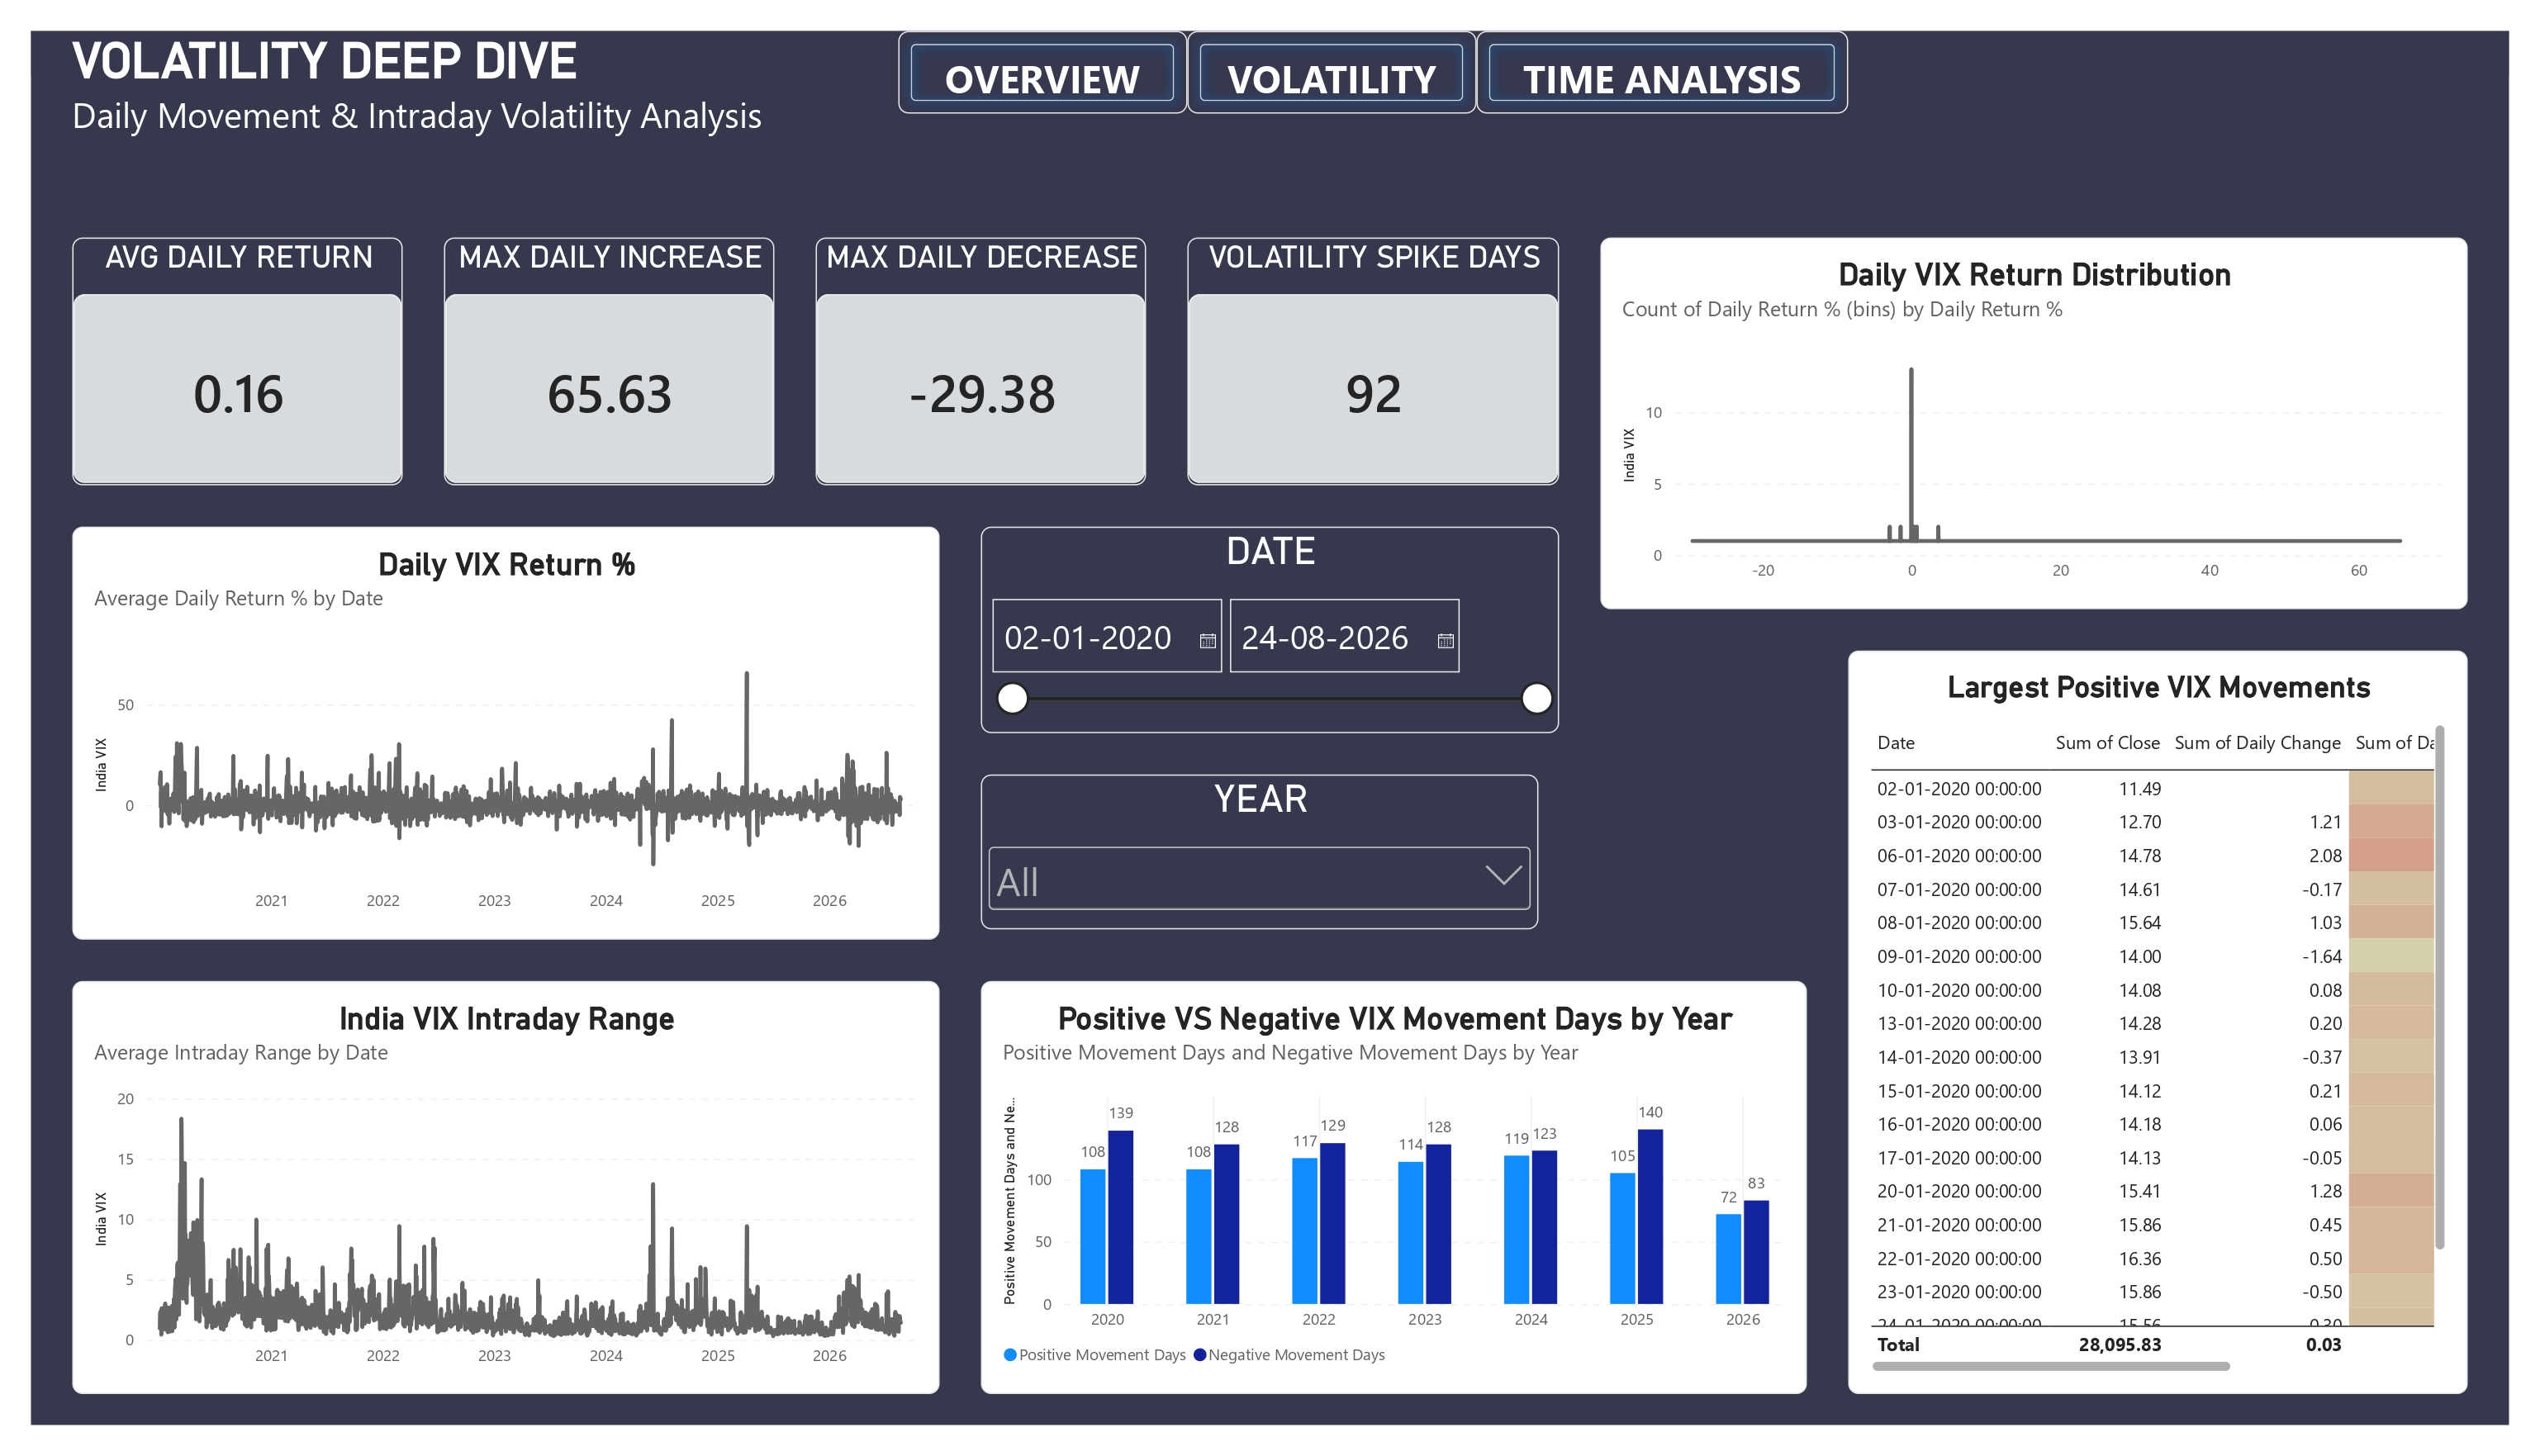

This screenshot's page, from the dashboard's own definition file:
{"tool":"powerbi","page":{"name":"02_Volatility Deep Dive","canvas":[1920,1080],"ordinal":1},"visuals":[{"type":"textbox","title":"VOLATILITY DEEP DIVE","box":[32,0,1888,96],"z":0},{"type":"cardVisual","title":"AVG DAILY RETURN","fields":{"Data":["IndiaVIX_Cleaned.Average Daily Return %"]},"box":[32,160,256,192],"z":1000},{"type":"cardVisual","title":"MAX DAILY INCREASE","fields":{"Data":["IndiaVIX_Cleaned.Maximum Daily Increase"]},"box":[320,160,256,192],"z":2000},{"type":"cardVisual","title":"MAX DAILY DECREASE","fields":{"Data":["IndiaVIX_Cleaned.Maximum Daily Decrease"]},"box":[608,160,256,192],"z":3000},{"type":"cardVisual","title":"VOLATILITY SPIKE DAYS","fields":{"Data":["IndiaVIX_Cleaned.Volatility Spike Days"]},"box":[896,160,288,192],"z":4000},{"type":"lineChart","title":"Daily VIX Return %","fields":{"Category":["DateTable.Date"],"Y":["IndiaVIX_Cleaned.Average Daily Return %"]},"box":[32,384,672,320],"z":5000},{"type":"slicer","title":"DATE","fields":{"Values":["DateTable.Date"]},"box":[736,384,448,160],"z":6000},{"type":"slicer","title":"YEAR","fields":{"Values":["DateTable.Year"]},"box":[736,576,432,120],"z":7000},{"type":"lineChart","title":"India VIX Intraday Range","fields":{"Category":["DateTable.Date"],"Y":["IndiaVIX_Cleaned.Average Intraday Range"]},"box":[32,736,672,320],"z":12000},{"type":"clusteredColumnChart","title":"Positive VS Negative VIX Movement Days by Year","fields":{"Category":["DateTable.Year"],"Y":["IndiaVIX_Cleaned.Positive Movement Days","IndiaVIX_Cleaned.Negative Movement Days"]},"box":[736,736,640,320],"z":13000},{"type":"lineChart","title":"Daily VIX Return Distribution","fields":{"Category":["IndiaVIX_Cleaned.Daily Return %"],"Y":["CountNonNull(IndiaVIX_Cleaned.Daily Return % (bins))"]},"box":[1216,160,672,288],"z":14000},{"type":"tableEx","title":"Largest Positive VIX Movements","fields":{"Values":["DateTable.Date","Sum(IndiaVIX_Cleaned.Close)","Sum(IndiaVIX_Cleaned.Daily Change)","Sum(IndiaVIX_Cleaned.Daily Return %)","Sum(IndiaVIX_Cleaned.High-Low Range)"]},"box":[1408,480,480,576],"z":15000},{"type":"actionButton","box":[672,0,224,64],"z":15001},{"type":"actionButton","box":[896,0,224,64],"z":15002},{"type":"actionButton","box":[1120,0,288,64],"z":15003}]}

Visuals, with their boxes on the page's 1920x1080 design canvas (x1, y1, x2, y2). These are canvas units, not pixel positions in the 2540x1456 screenshot, which may show the page scaled, cropped or inside an application window:
"VOLATILITY DEEP DIVE" textbox: locate(32, 0, 1920, 96)
"AVG DAILY RETURN" cardVisual: locate(32, 160, 288, 352)
"MAX DAILY INCREASE" cardVisual: locate(320, 160, 576, 352)
"MAX DAILY DECREASE" cardVisual: locate(608, 160, 864, 352)
"VOLATILITY SPIKE DAYS" cardVisual: locate(896, 160, 1184, 352)
"Daily VIX Return %" lineChart: locate(32, 384, 704, 704)
"DATE" slicer: locate(736, 384, 1184, 544)
"YEAR" slicer: locate(736, 576, 1168, 696)
"India VIX Intraday Range" lineChart: locate(32, 736, 704, 1056)
"Positive VS Negative VIX Movement Days by Year" clusteredColumnChart: locate(736, 736, 1376, 1056)
"Daily VIX Return Distribution" lineChart: locate(1216, 160, 1888, 448)
"Largest Positive VIX Movements" tableEx: locate(1408, 480, 1888, 1056)
actionButton: locate(672, 0, 896, 64)
actionButton: locate(896, 0, 1120, 64)
actionButton: locate(1120, 0, 1408, 64)
